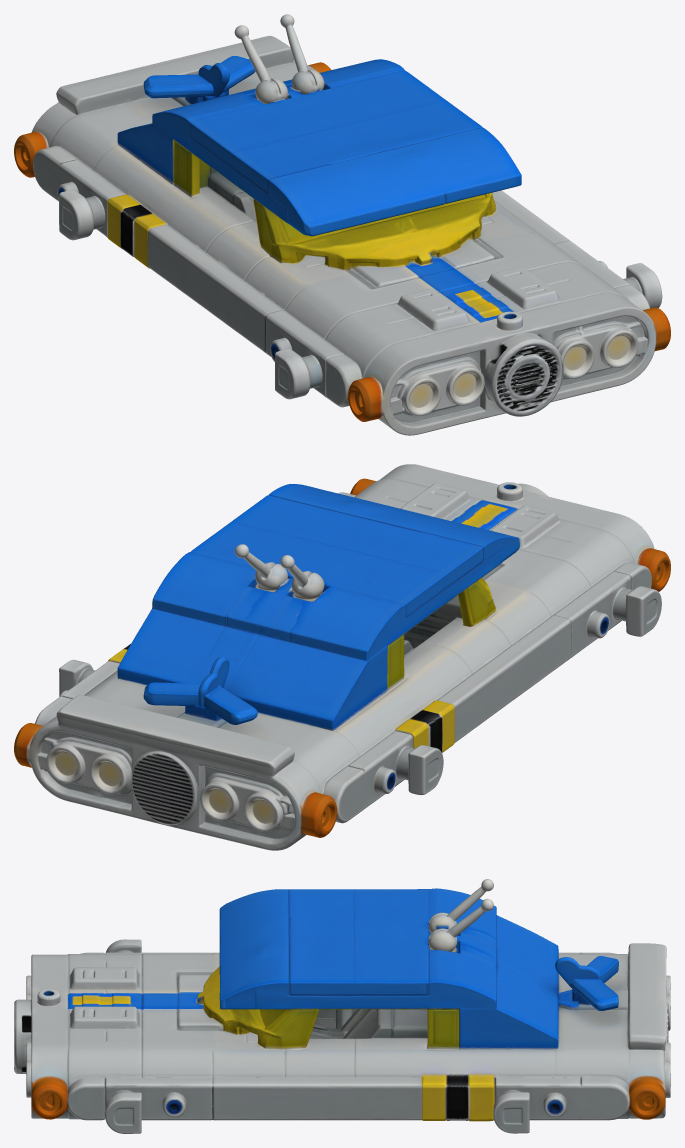
3 renders of one model, top to bottom at view 1: azimuth 30°, elevation 25°; view 2: azimuth 150°, elevation 25°; view 3: azimuth 270°, elevation 25°, orthographic. The views are drawn at different scales.
Parts seen in each view (by area): view 1: tripo_node_c9508e30-98cd-427b-a64e-20673819c1f6; view 2: tripo_node_c9508e30-98cd-427b-a64e-20673819c1f6; view 3: tripo_node_c9508e30-98cd-427b-a64e-20673819c1f6.
Part boxes in pixels (x1,y1,x2,y2): tripo_node_c9508e30-98cd-427b-a64e-20673819c1f6: (14, 14, 670, 435); tripo_node_c9508e30-98cd-427b-a64e-20673819c1f6: (14, 464, 670, 850); tripo_node_c9508e30-98cd-427b-a64e-20673819c1f6: (14, 879, 670, 1133).
Size of the model in its own units: 0.2841 by 0.15 by 0.4902.
1 material, 1 textured.
